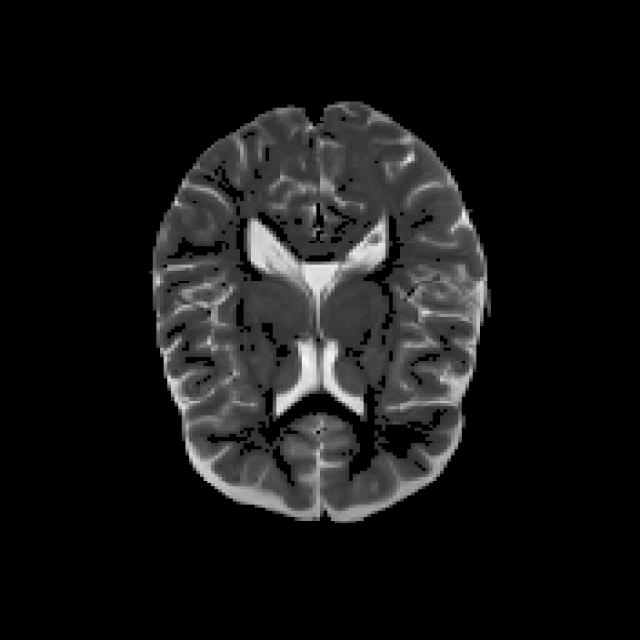CONTROL: (149, 99, 491, 523)
